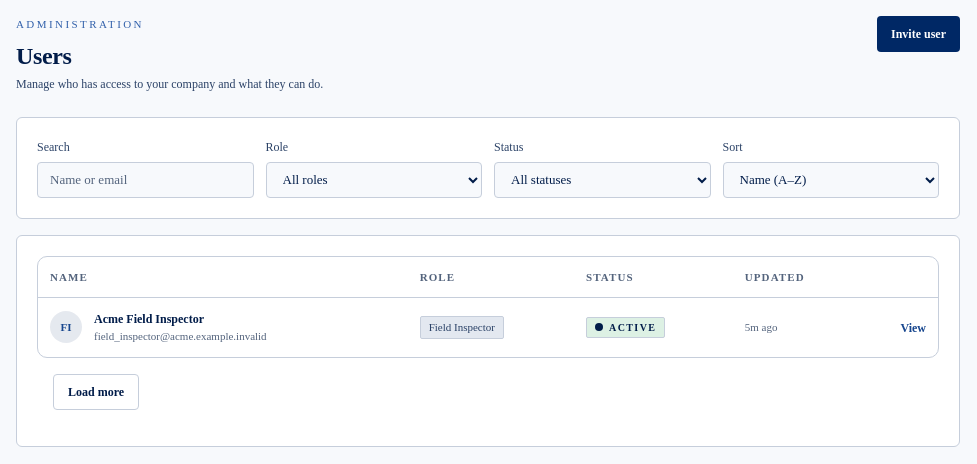
users page › loads more users via cursor pagination and appends without duplicating
Expected: the text "Acme Field Inspector" is shown, x1=94 y1=312 x2=204 y2=326
Click the button "Load more". click: click(96, 392)
box: x1=53 y1=374 x2=139 y2=410
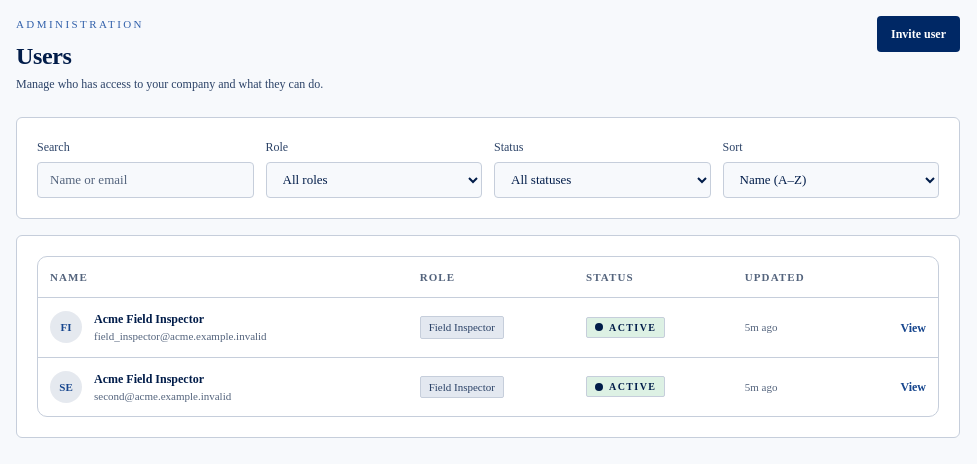
Result: the text "second@acme.example.invalid" is shown at x1=94 y1=388 x2=231 y2=404
Result: the button "Load more" is gone
